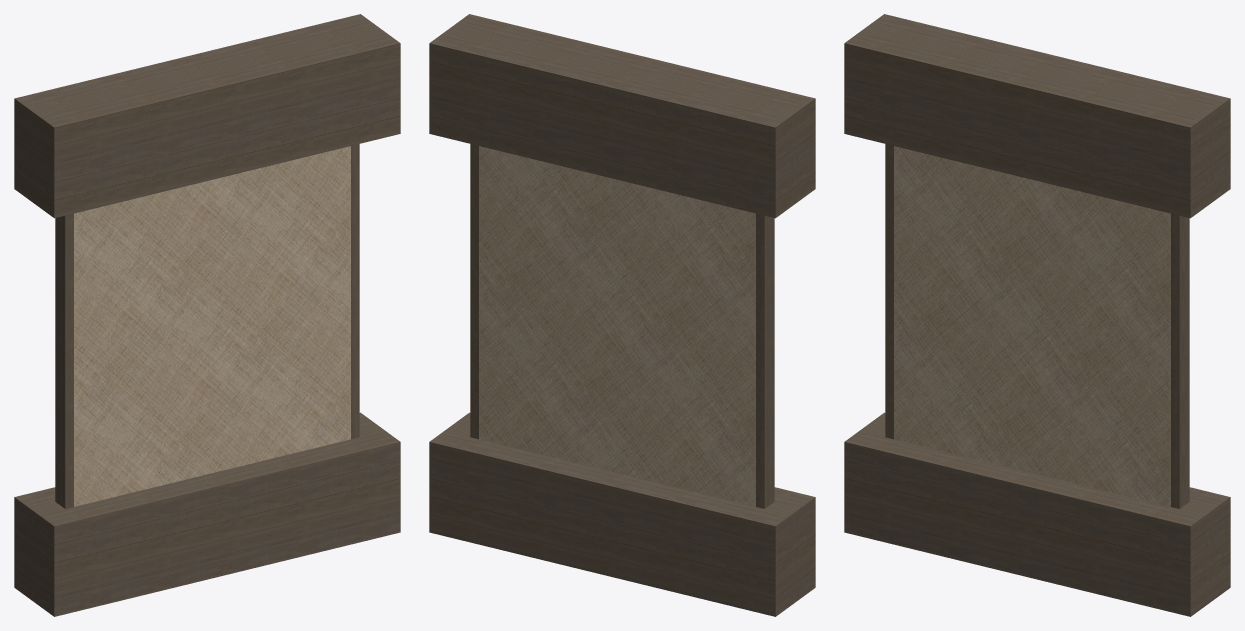
File: galleryDisplay_Standard.glb
The picture shows the model from 3 angles, left to right: view 1: azimuth 30°, elevation 25°; view 2: azimuth 150°, elevation 25°; view 3: azimuth 330°, elevation 25°; orthographic projection.
Visible parts, largest first — view 1: Frame, Display, Display.001; view 2: Frame, Display, Display.001; view 3: Frame, Display, Display.001.
Boxes of the visible parts, x1,y1,x2,y2 form: Frame: [14, 14, 400, 616]; Display: [74, 146, 350, 506]; Display.001: [55, 144, 359, 508]; Frame: [429, 14, 815, 616]; Display: [479, 146, 755, 506]; Display.001: [470, 144, 774, 508]; Frame: [844, 14, 1230, 616]; Display: [894, 146, 1170, 506]; Display.001: [885, 144, 1189, 508].
Size of what is drawn, in the model's own units: 4 by 5.4 by 0.8.
Materials: 3 (3 with a texture image).
